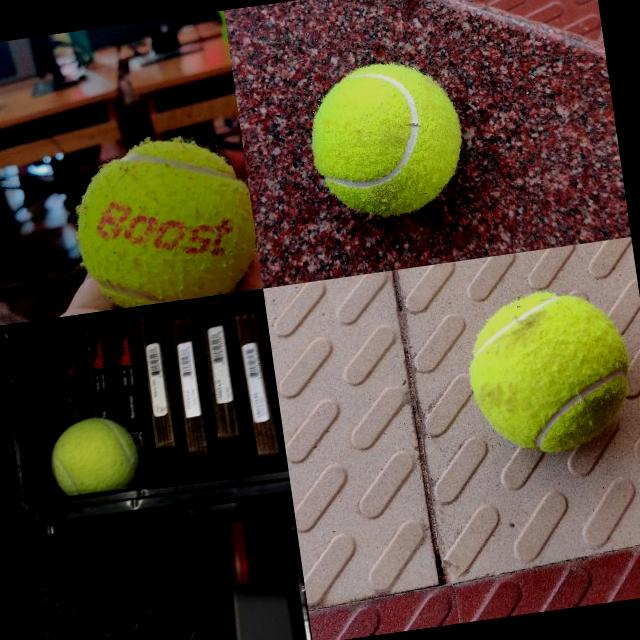Tennis Ball: (65, 128, 262, 312), (458, 282, 639, 462), (303, 55, 470, 224), (44, 410, 144, 496)
